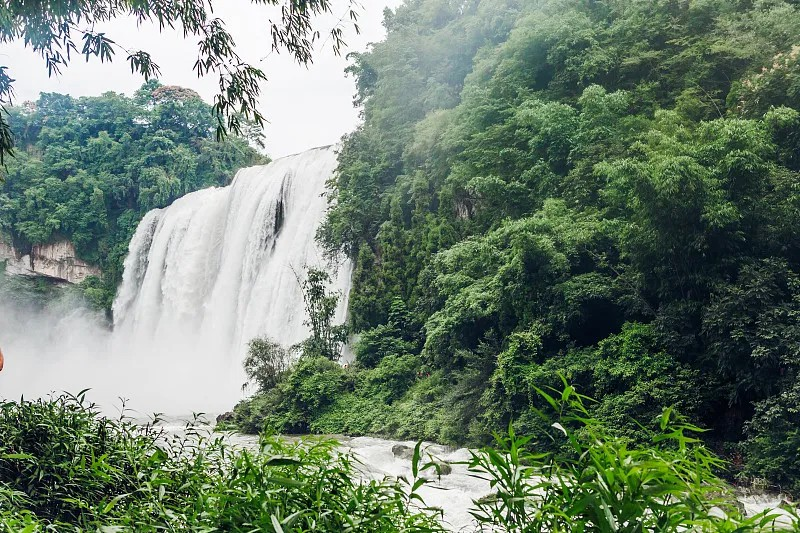Huangguoshu: (110, 144, 355, 412)
